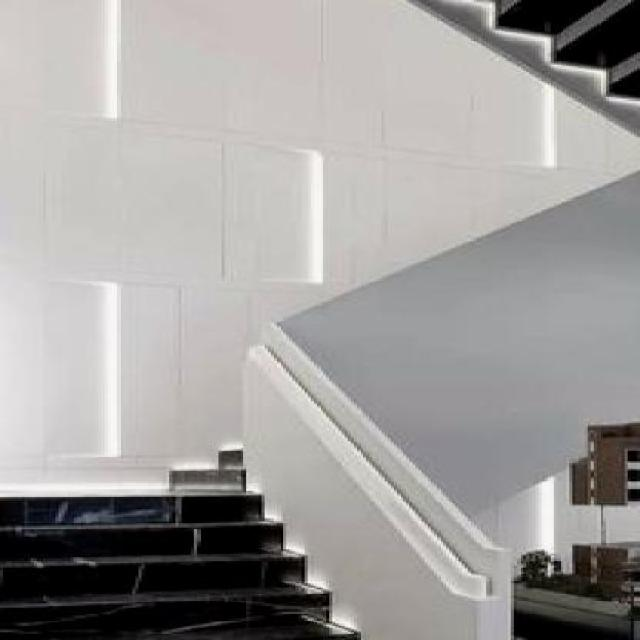stair: (3, 360, 532, 638)
